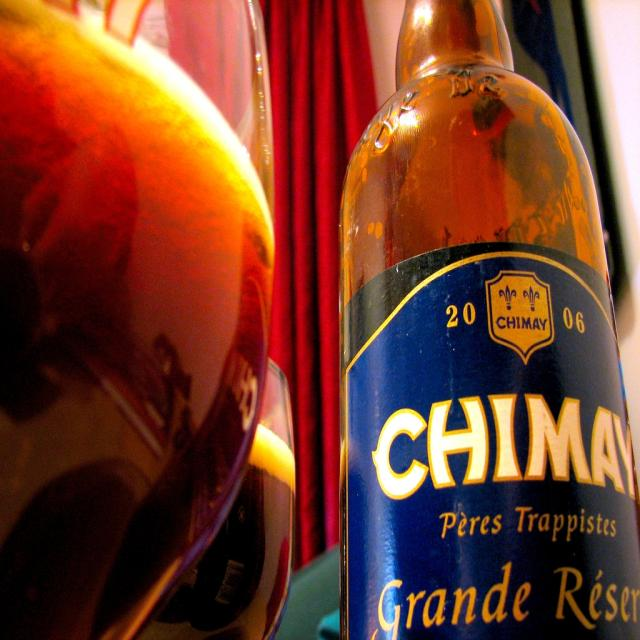chimay: (348, 251, 640, 640)
